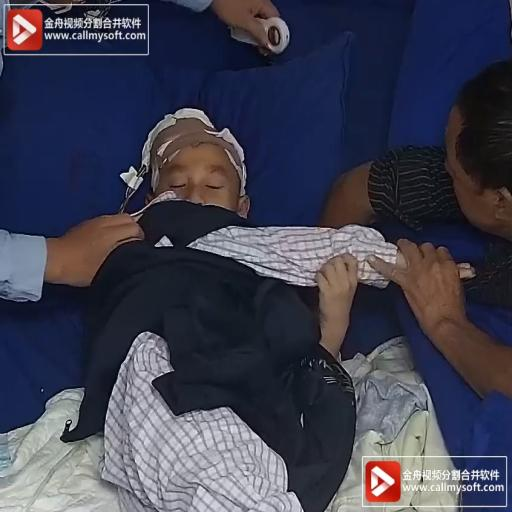Seizure: (160, 124, 259, 214)
